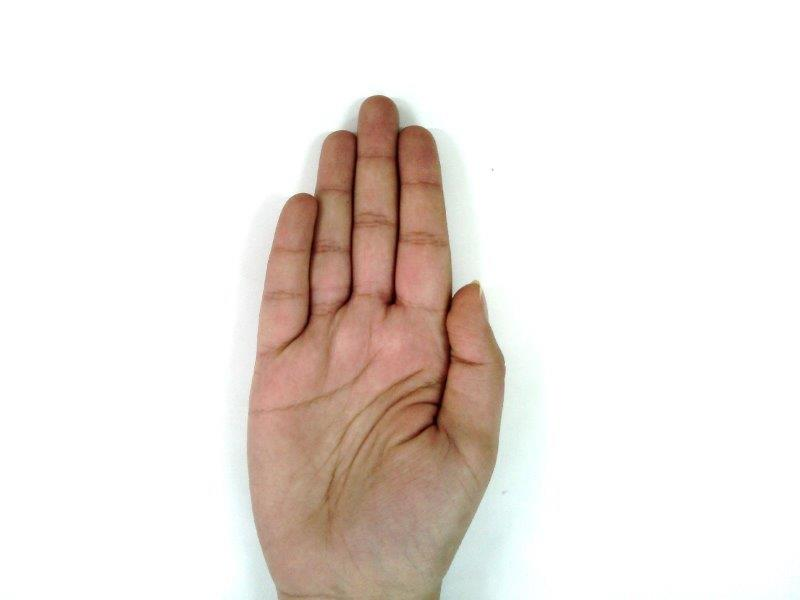hand: (245, 95, 504, 562)
